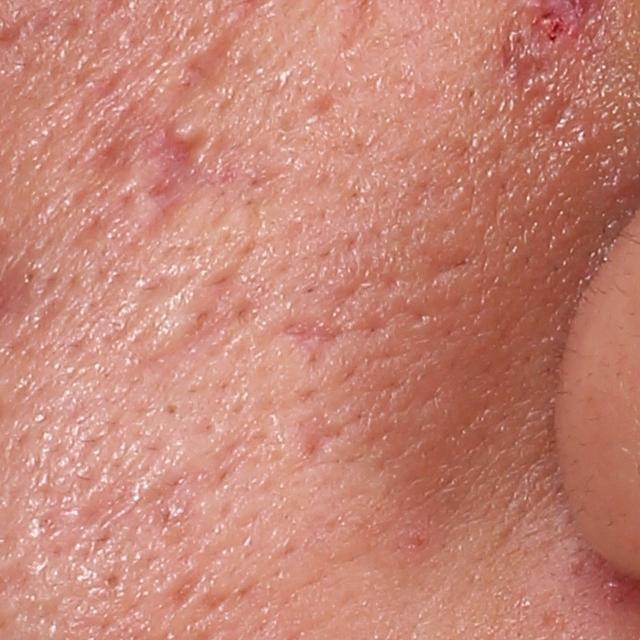atrophic_scar: (74, 109, 226, 196), (270, 280, 428, 350), (148, 258, 264, 350), (12, 277, 77, 352), (142, 471, 195, 540), (301, 415, 344, 460), (308, 90, 344, 127), (71, 218, 108, 250), (170, 569, 201, 605)
comedo: (76, 61, 127, 120), (164, 401, 181, 419)
